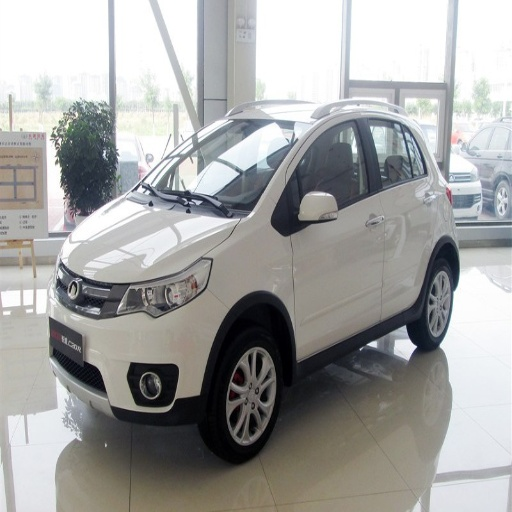front_bumper: (47, 267, 226, 423)
front_glass: (132, 117, 295, 215)
front_left_door: (283, 114, 385, 353)
